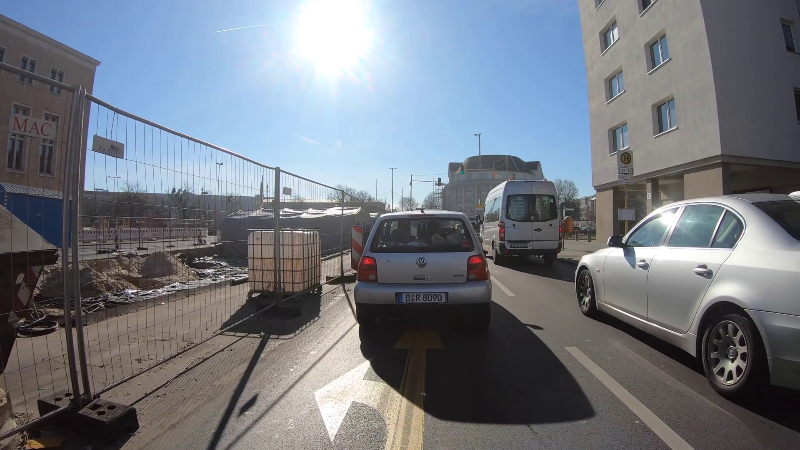Plate: (397, 289, 446, 304)
